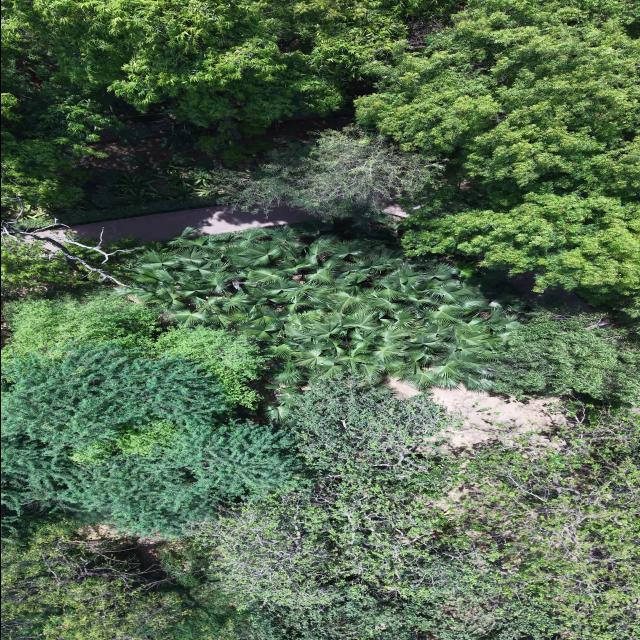DRY_AREA: (65, 205, 313, 242), (66, 206, 312, 242), (431, 385, 566, 447)
VEGETATION_TREE: (1, 0, 639, 639), (3, 291, 638, 639), (4, 0, 639, 297), (196, 379, 639, 639), (3, 0, 442, 217), (357, 0, 639, 298), (1, 293, 305, 536), (121, 224, 518, 387), (1, 342, 304, 536), (8, 0, 429, 125), (453, 409, 639, 639), (1, 292, 267, 405), (1, 513, 235, 639), (3, 341, 231, 465), (1, 2, 123, 213), (404, 192, 639, 300), (1, 515, 188, 639), (202, 126, 442, 219), (292, 374, 448, 474), (493, 309, 639, 400), (1, 206, 136, 295), (1, 290, 161, 360), (158, 538, 247, 639), (156, 326, 267, 406), (1, 243, 95, 293), (60, 196, 220, 225), (171, 590, 247, 639)
